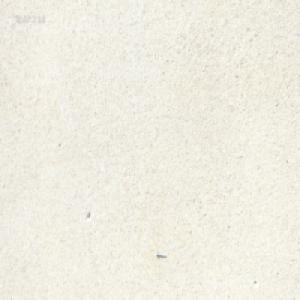Nail: (156, 250, 166, 258)
